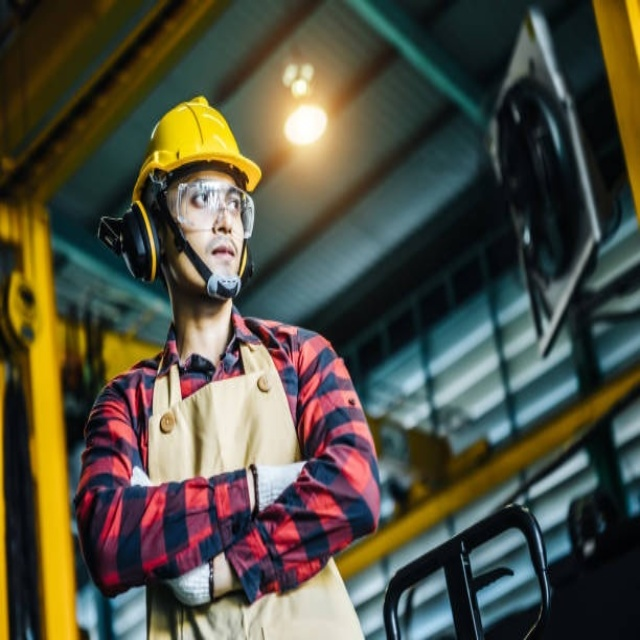Gafas: (166, 179, 256, 236)
Sin_mascara: (206, 237, 239, 273)
